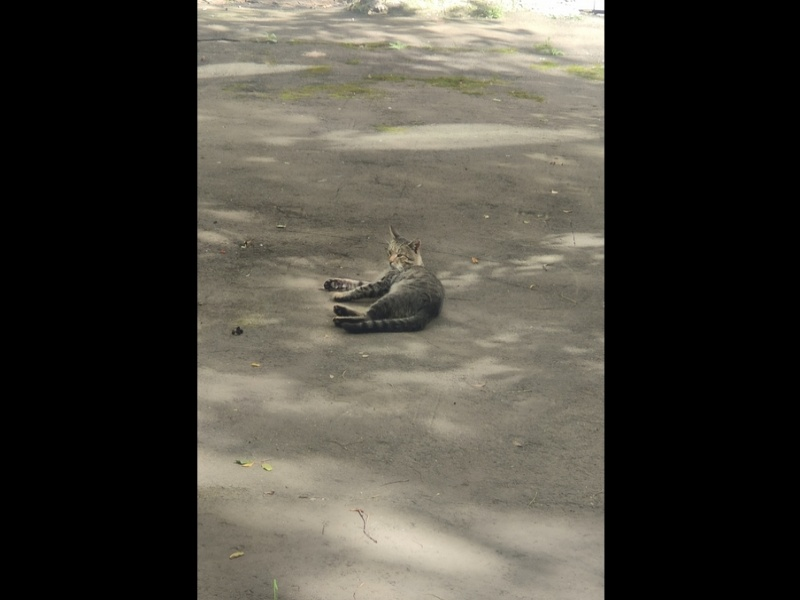cat: (321, 224, 444, 332)
